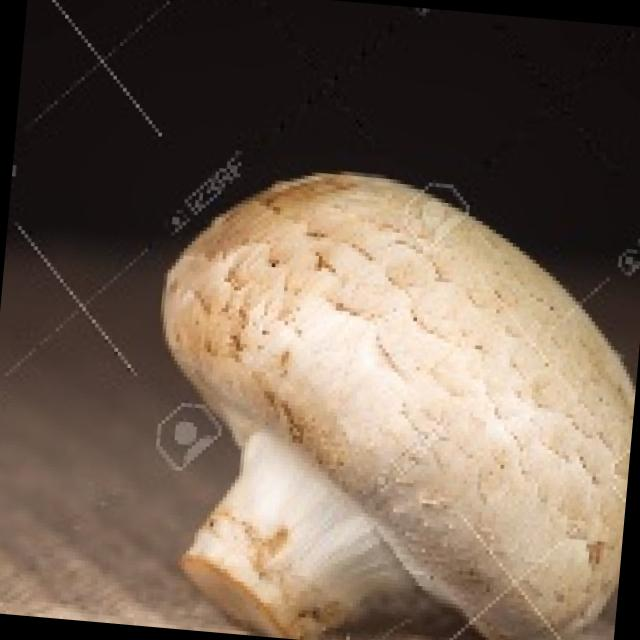mushroom: (128, 136, 640, 640)
